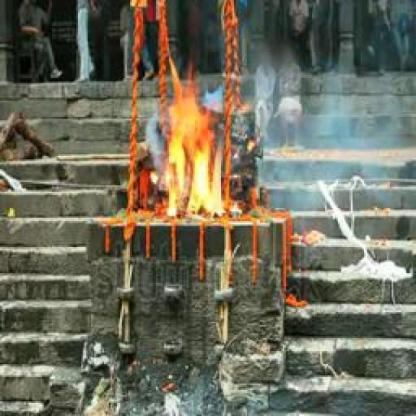fire: (161, 82, 226, 224)
